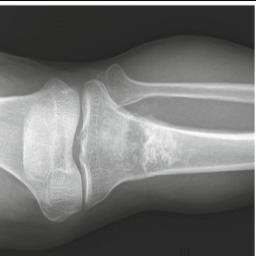cancer: (133, 121, 192, 172)
